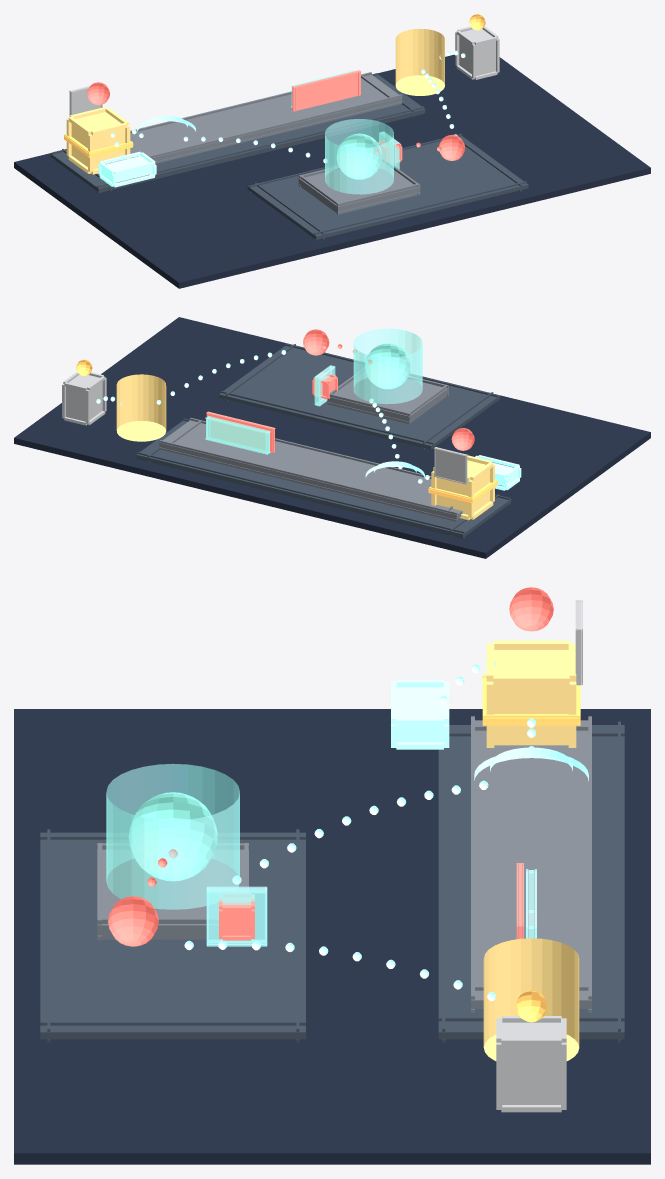
File: cks-runtime-security.glb
The picture shows the model from 3 angles, top to bottom: view 1: azimuth 30°, elevation 25°; view 2: azimuth 150°, elevation 25°; view 3: azimuth 270°, elevation 25°; orthographic projection. The views are drawn at different scales.
Visible parts, largest first — view 1: rt-floor, ns-payments, node-kernel, node01, apparmor-shield, rootfs-layer, kube-apiserver, falco-ds, audit-log, sim-apparmor-missing, payments-pod, falco-alerts (+4 smaller); view 2: rt-floor, ns-payments, node-kernel, node01, apparmor-shield, rootfs-layer, kube-apiserver, falco-ds, audit-log, payments-pod, apparmor-profile, sim-apparmor-missing (+7 smaller); view 3: rt-floor, ns-payments, node-kernel, node01, apparmor-shield, falco-ds, rootfs-layer, kube-apiserver, audit-log, payments-pod, falco-alerts, sim-write-denied (+5 smaller).
Part boxes in pixels (box(x1,y1,x2,y2)): rt-floor: box(14, 54, 650, 288); ns-payments: box(247, 134, 528, 240); node-kernel: box(105, 72, 402, 164); node01: box(50, 73, 425, 193); apparmor-shield: box(325, 119, 393, 194); rootfs-layer: box(298, 158, 420, 214); kube-apiserver: box(395, 28, 444, 95); falco-ds: box(66, 107, 130, 174); audit-log: box(455, 26, 499, 79); sim-apparmor-missing: box(292, 70, 361, 111); payments-pod: box(336, 133, 382, 179); falco-alerts: box(98, 151, 156, 187); rt-floor: box(14, 317, 650, 558); ns-payments: box(219, 343, 499, 449); node-kernel: box(159, 418, 462, 521); node01: box(136, 418, 511, 538); apparmor-shield: box(353, 328, 422, 403); rootfs-layer: box(327, 368, 448, 424); kube-apiserver: box(116, 374, 166, 441); falco-ds: box(431, 455, 494, 520); audit-log: box(62, 372, 106, 425); payments-pod: box(365, 343, 410, 389); apparmor-profile: box(205, 416, 270, 454); sim-apparmor-missing: box(206, 411, 275, 452); rt-floor: box(14, 709, 650, 1164); ns-payments: box(40, 829, 305, 1042); node-kernel: box(471, 716, 591, 1012); node01: box(438, 721, 624, 1042); apparmor-shield: box(106, 764, 239, 909); falco-ds: box(486, 640, 576, 747); rootfs-layer: box(97, 843, 248, 940); kube-apiserver: box(483, 938, 579, 1060); audit-log: box(496, 1016, 566, 1112); payments-pod: box(128, 792, 217, 881); falco-alerts: box(391, 679, 449, 749); sim-write-denied: box(206, 886, 267, 946).
Size of what is drawn, in the model's own units: 6.6 by 1.26 by 4.
